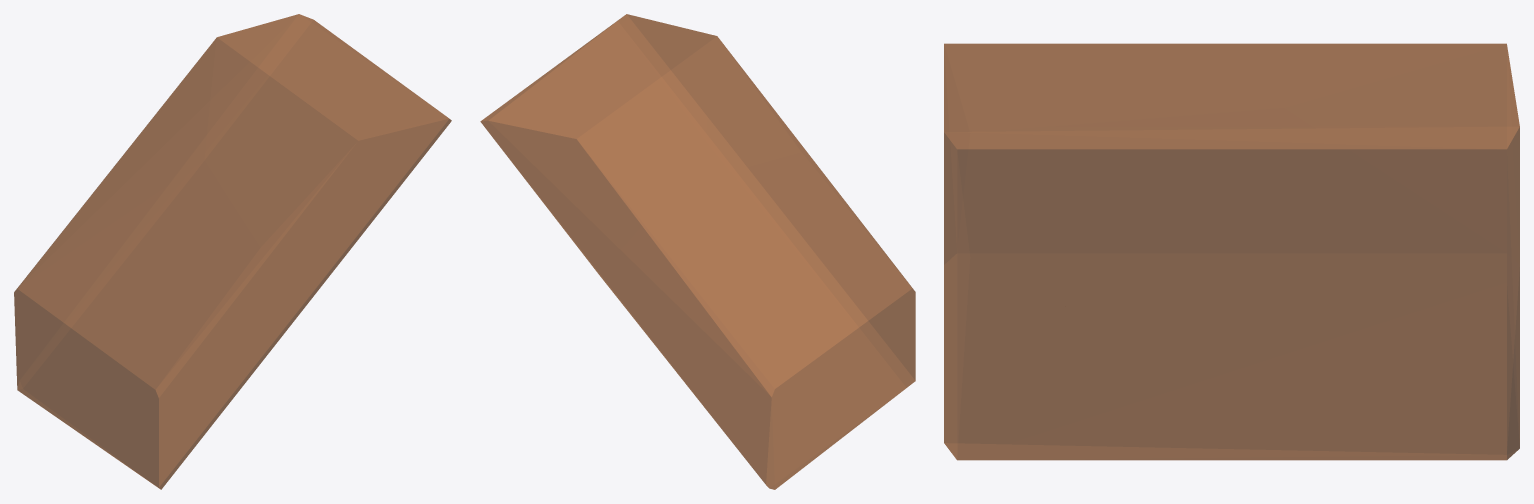
The picture shows the model from 3 angles, left to right: view 1: azimuth 30°, elevation 25°; view 2: azimuth 150°, elevation 25°; view 3: azimuth 270°, elevation 25°; orthographic projection. The views are drawn at different scales.
Visible parts, largest first — view 1: Shape_IndexedFaceSet.005_Shape_IndexedFaceSet.5719; view 2: Shape_IndexedFaceSet.005_Shape_IndexedFaceSet.5719; view 3: Shape_IndexedFaceSet.005_Shape_IndexedFaceSet.5719.
Boxes of the visible parts, bbox=[...] form: Shape_IndexedFaceSet.005_Shape_IndexedFaceSet.5719: bbox=[14, 14, 451, 489]; Shape_IndexedFaceSet.005_Shape_IndexedFaceSet.5719: bbox=[480, 14, 915, 489]; Shape_IndexedFaceSet.005_Shape_IndexedFaceSet.5719: bbox=[944, 43, 1519, 460].
Size of the model in its own units: 0.1311 by 0.1286 by 0.1109.
